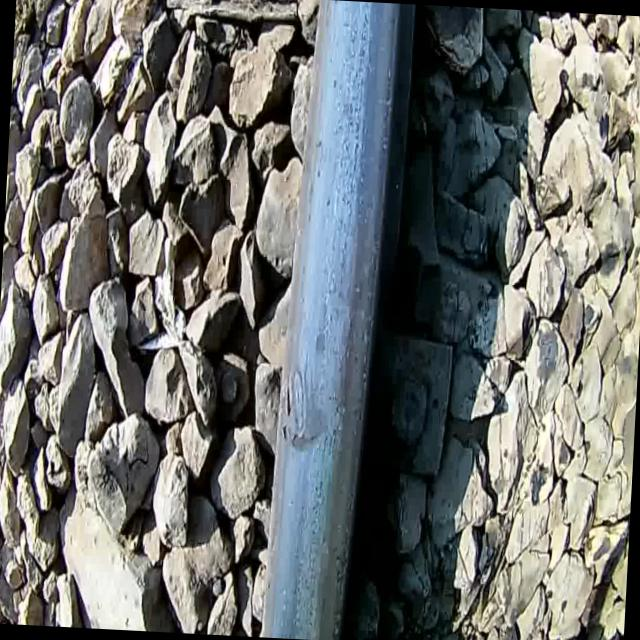Squats: (276, 352, 342, 470)
